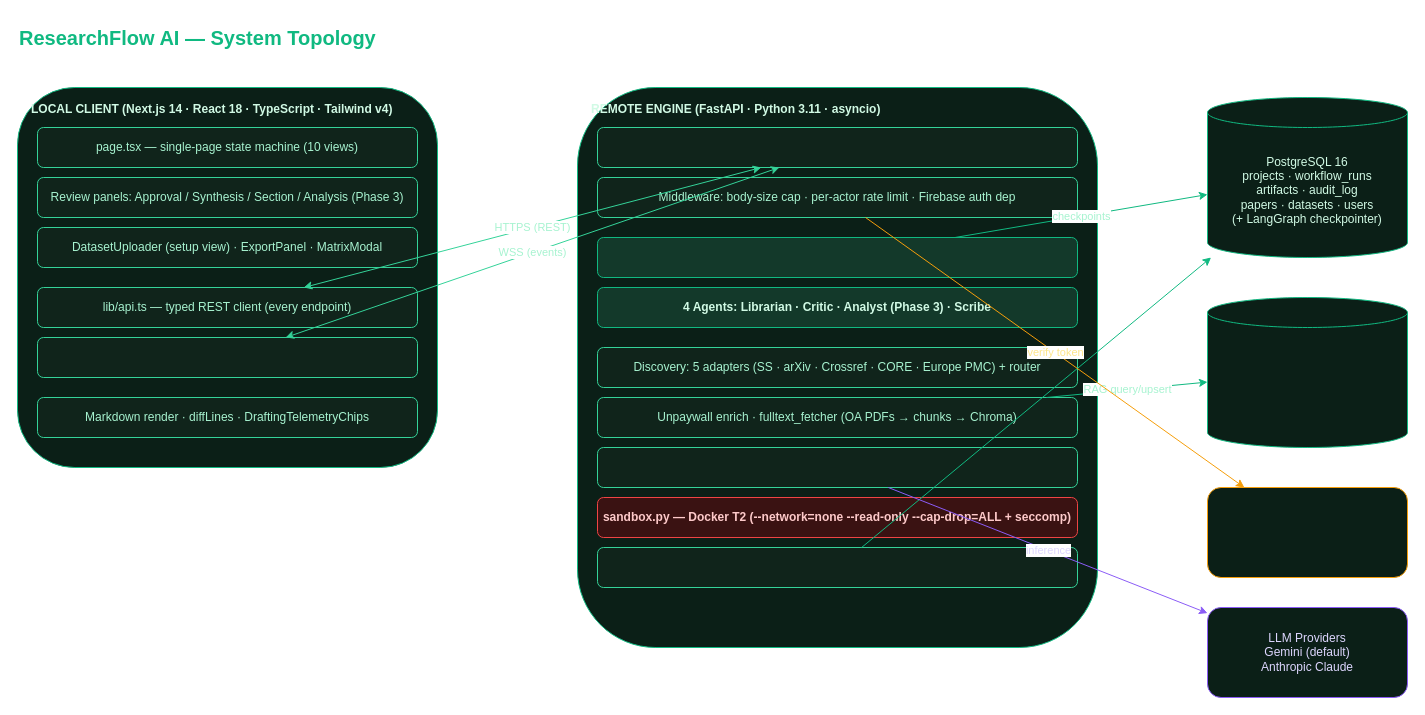
This 1425x715 diagram has some shape labels left out. The shapes that lost their labels are listed below. From the top down, each one's centre as x and y in pixels, then its label:
pixel 837 147: REST routes (30+ endpoints) · WS endpoint (auth handshake)
pixel 837 257: LangGraph runtime — 12-node state machine + 4 HITL interrupt() gates
pixel 227 357: lib/ws.ts — ManagedSocket (auth handshake · reconnect + backoff)
pixel 1307 372: ChromaDB per-project vector namespaces (abstracts + fulltext chunks)
pixel 837 467: llm.py — LLM gateway (Gemini + Anthropic) · bounded retry · cost cap
pixel 1307 532: Firebase Auth Google OAuth ID-token verify
pixel 837 567: export.py · citations.py · dataset_storage.py · workflow.py (WS bus + audit)
